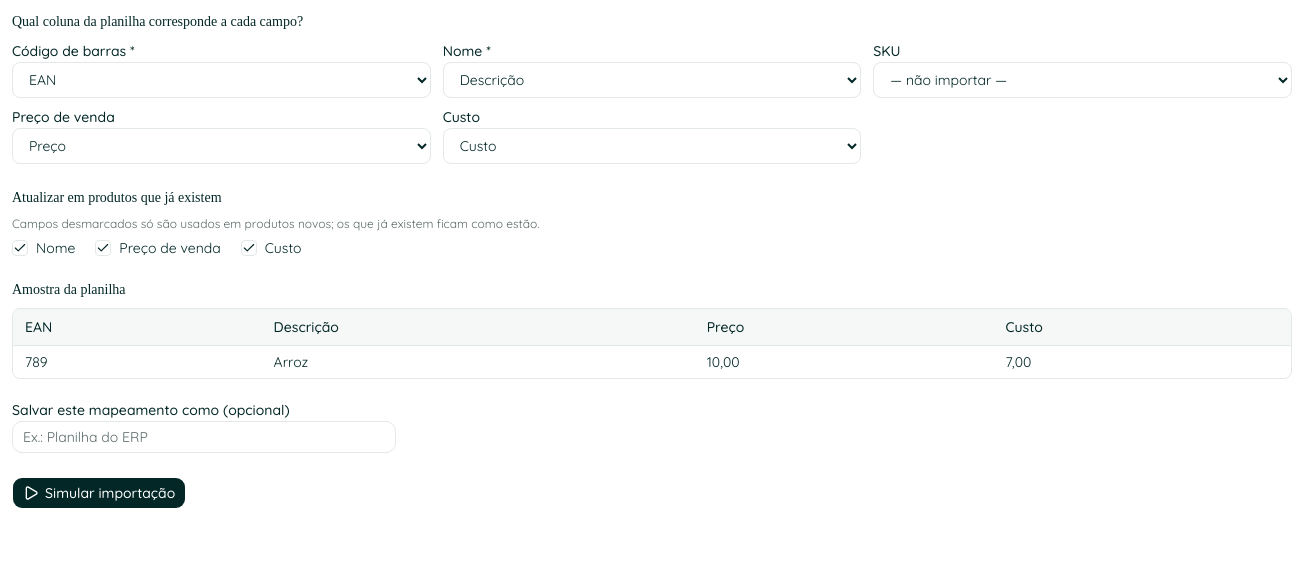
it: MappingStep › mesma coluna em dois campos ⇒ mensagem
Select "EAN" in the dropdown labelled "SKU" at (1083, 80), box [873,62,1292,98]
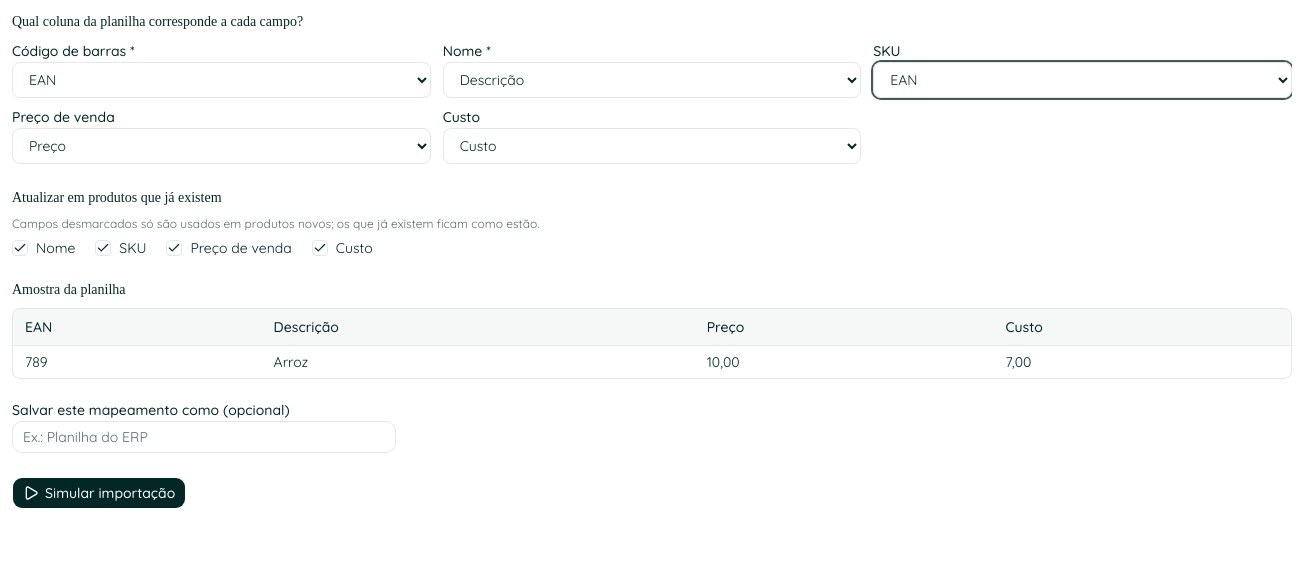
Click the button "Simular importação" at (99, 493), box [12,477,186,509]
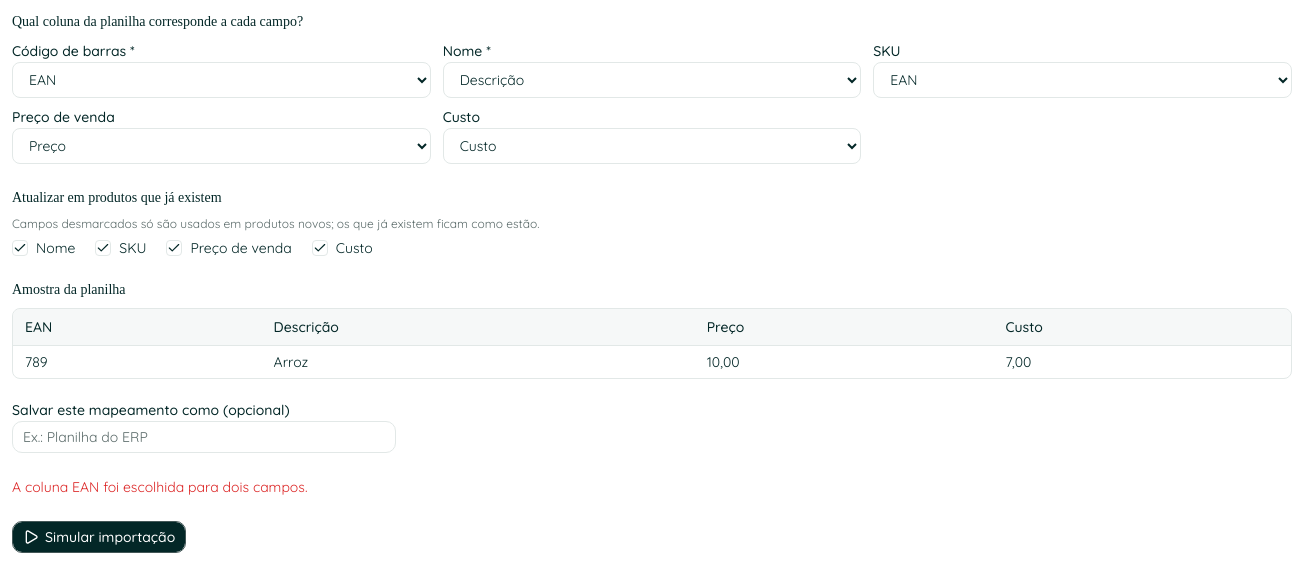
Expected: the message reads "A coluna EAN foi escolhida para dois campos.", [12,478,307,496]
